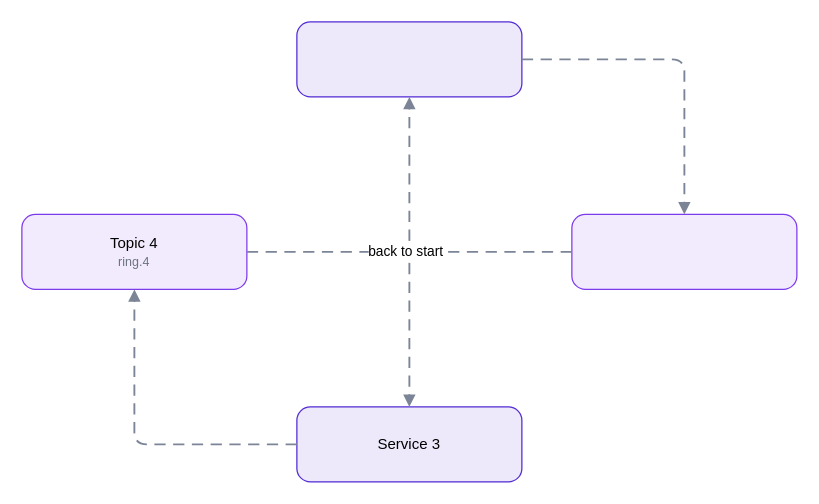
Image size: 819x504. Some labels were removed from this diagram. The shapes that lost their labels are listed below. From the top down, each one's centre as x and y in pixels, then its label:
At point (409, 59): "Service 1".
At point (684, 251): "Topic 2 ring.2".
